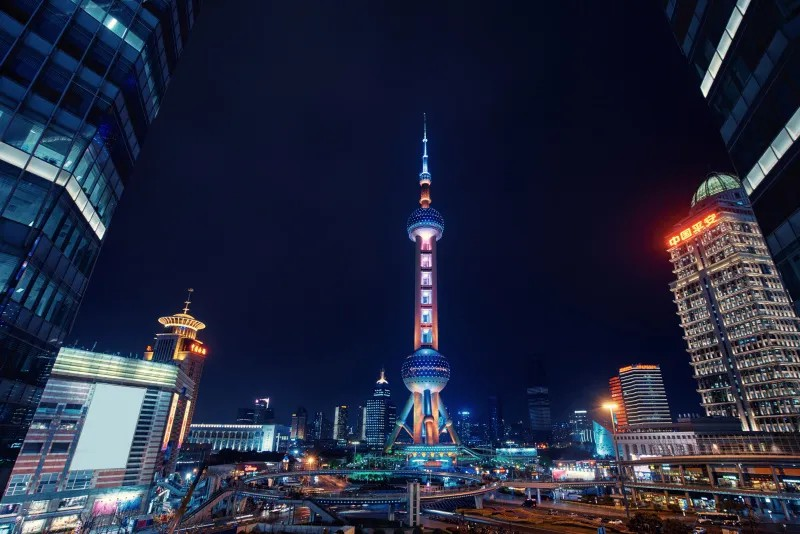Oriental: (385, 111, 461, 449)
